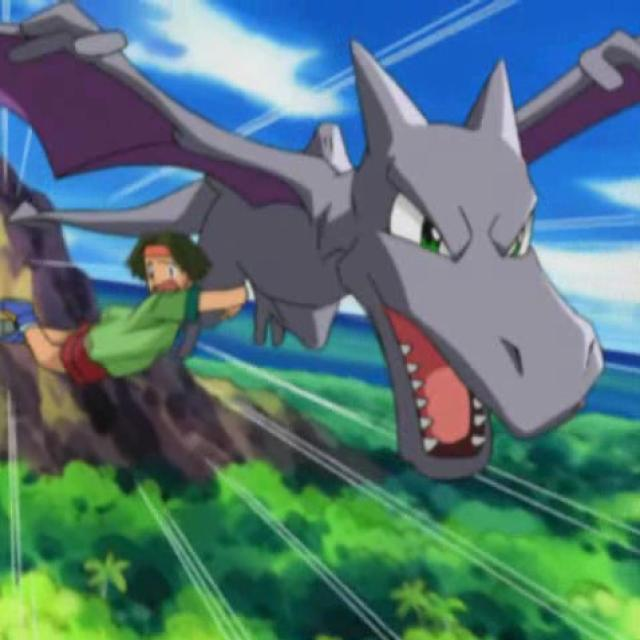Aerodactyl: (202, 32, 640, 450)
